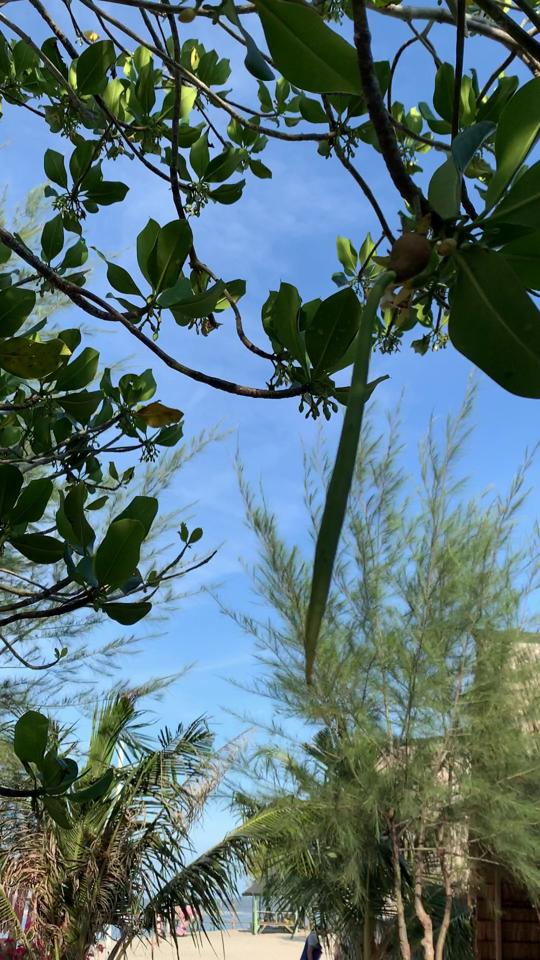mentah: (286, 215, 448, 704)
